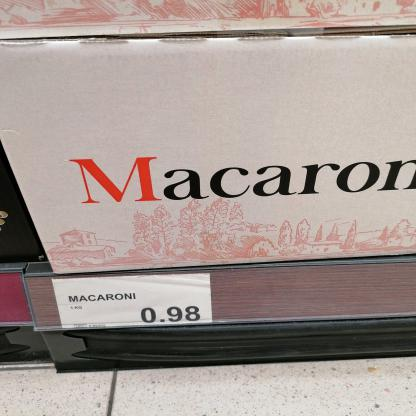prtg: (53, 275, 213, 331)
